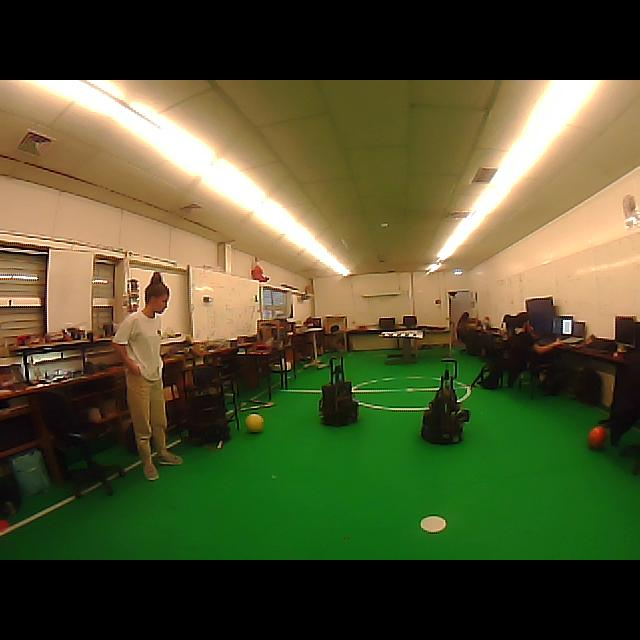ball: (588, 426, 606, 448), (245, 414, 264, 432)
robot: (421, 370, 470, 444), (320, 356, 358, 426), (188, 386, 230, 444)
